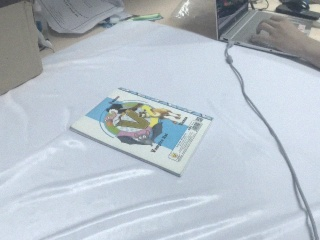book: (67, 82, 215, 179)
box: (1, 1, 43, 101)
